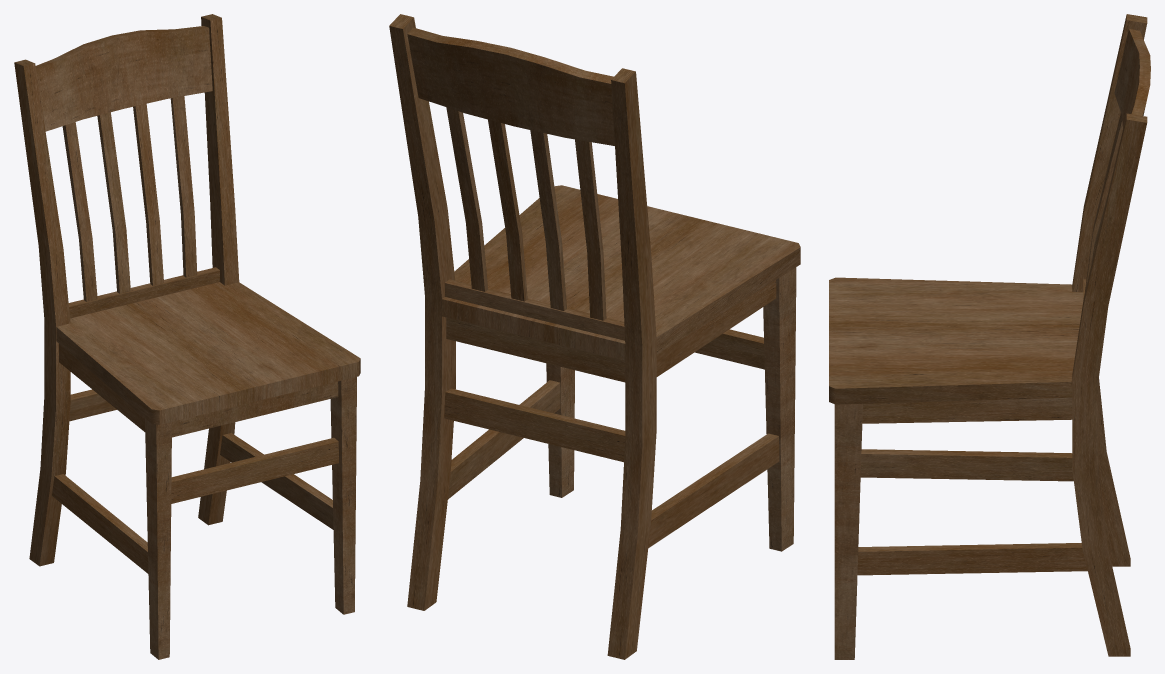
Rendered from old_wooden_chair_low-poly.glb.
3 views of the same model, side by side, from view 1: azimuth 30°, elevation 25°; view 2: azimuth 150°, elevation 25°; view 3: azimuth 270°, elevation 25° (orthographic). The views are drawn at different scales.
Parts seen in each view (by area): view 1: chair; view 2: chair; view 3: chair.
Boxes of the visible parts, x1=… form: chair: x1=14, y1=14, x2=360, y2=659; chair: x1=389, y1=14, x2=800, y2=659; chair: x1=829, y1=14, x2=1150, y2=659.
Bounding box in the file's own units: 0.4947 × 1.12 × 0.6051.
Materials: 1 (1 with a texture image).
